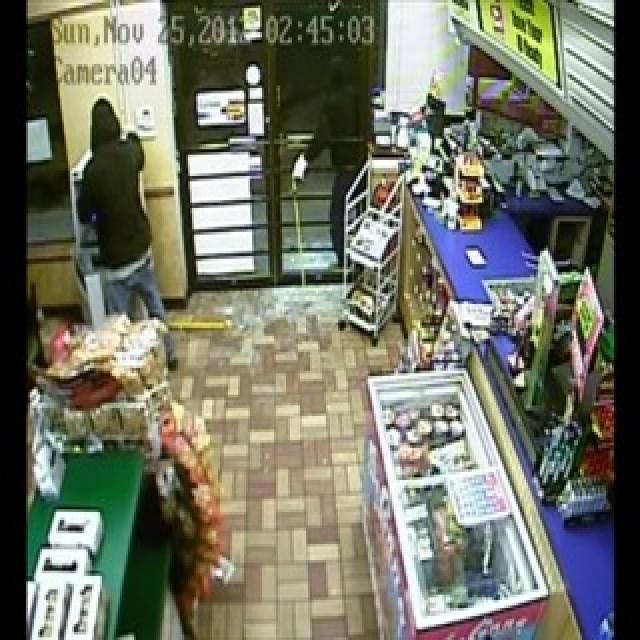thief: (71, 96, 153, 324)
